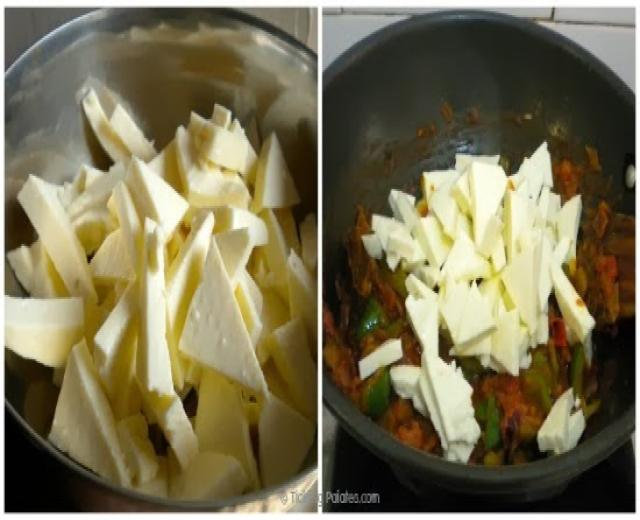kadai paneer: (325, 142, 597, 446)
